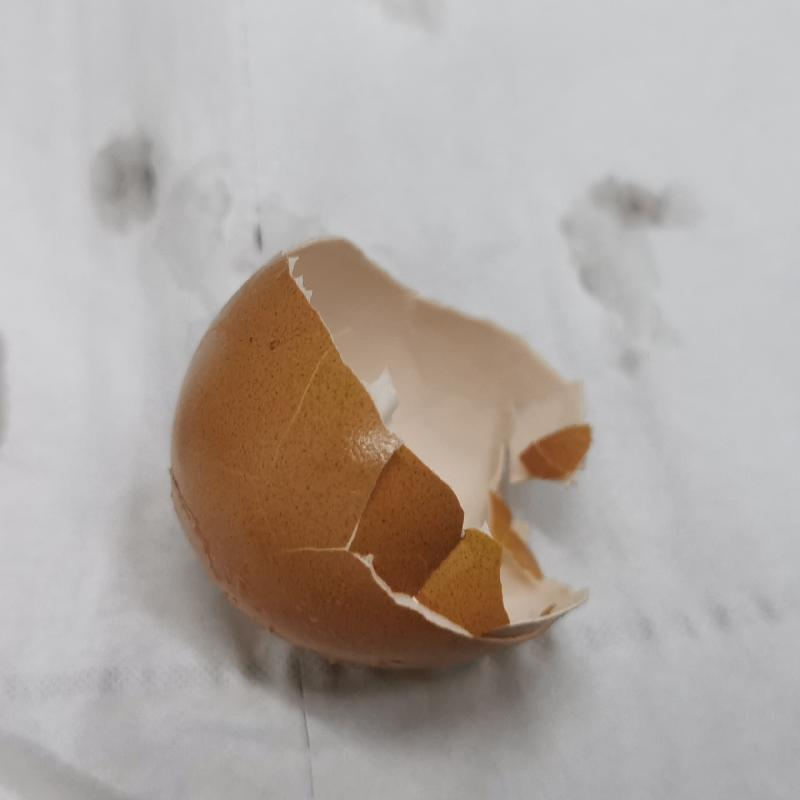eggshell: (162, 233, 602, 666)
